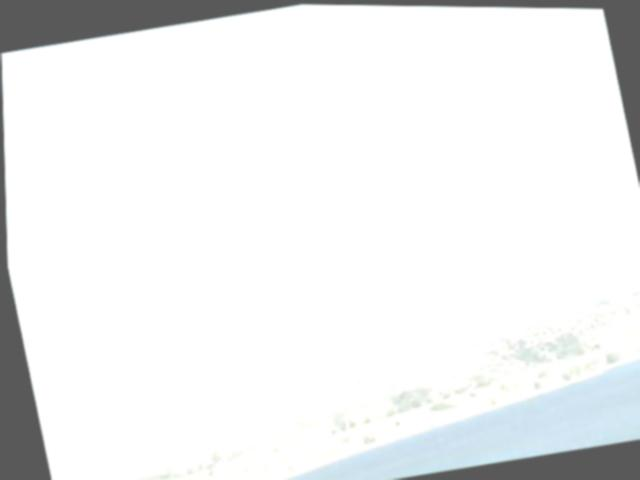iha: (188, 251, 256, 314)
